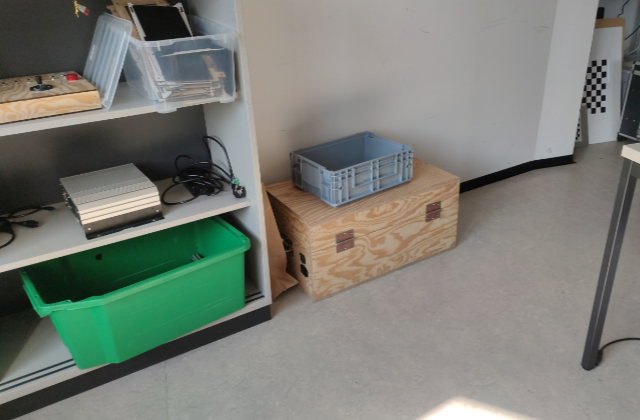Box: (288, 130, 414, 209)
